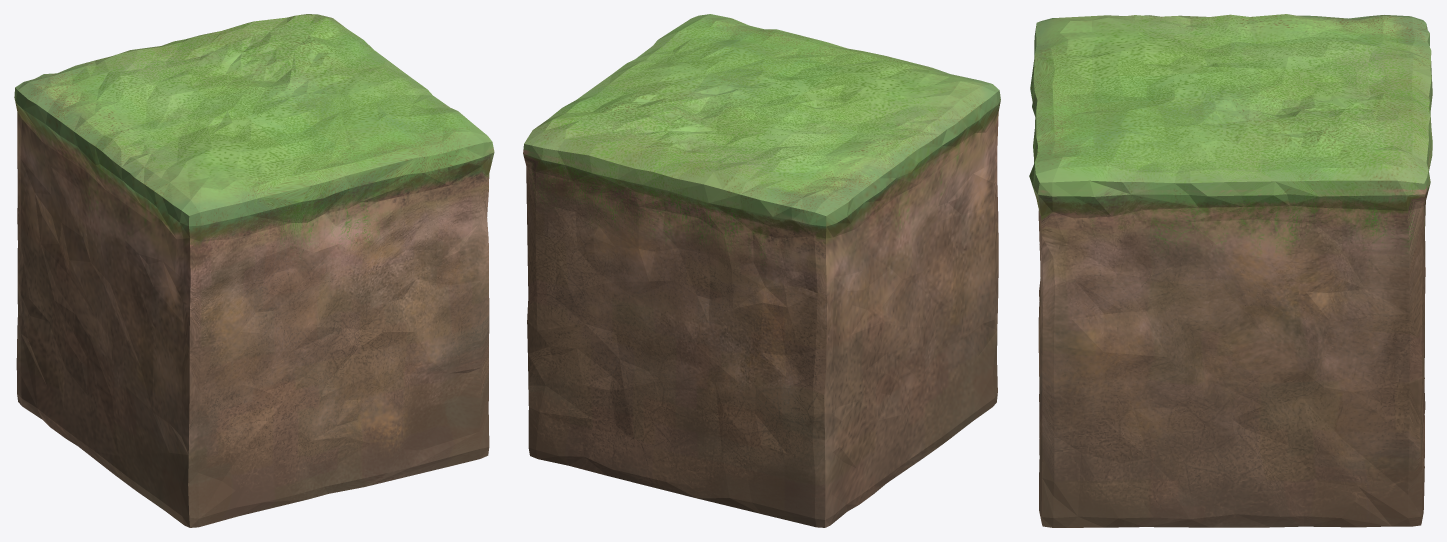
File: DirtCubeDecimated.OBJ
The picture shows the model from 3 angles, left to right: view 1: azimuth 30°, elevation 25°; view 2: azimuth 150°, elevation 25°; view 3: azimuth 270°, elevation 25°; orthographic projection. The views are drawn at different scales.
Visible parts, largest first — view 1: Group36154; view 2: Group36154; view 3: Group36154.
Part boxes in pixels (<box>): Group36154: <box>14,14,494,527</box>; Group36154: <box>523,14,1000,527</box>; Group36154: <box>1029,14,1432,527</box>.
Size of the model in its own units: 2.08 by 2.12 by 2.09.
Materials: 1 (1 with a texture image).
